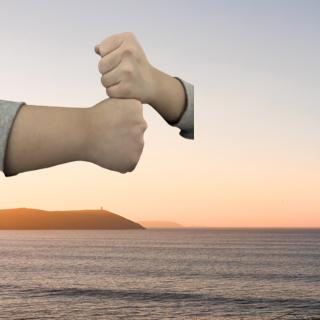CAREFUL: (20, 30, 194, 174)
